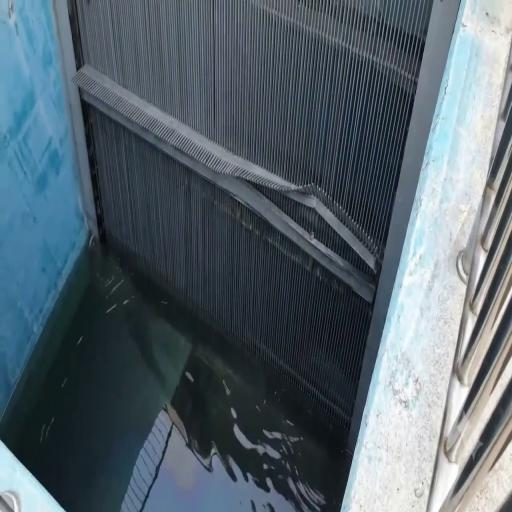rake_broken: (220, 161, 381, 276)
